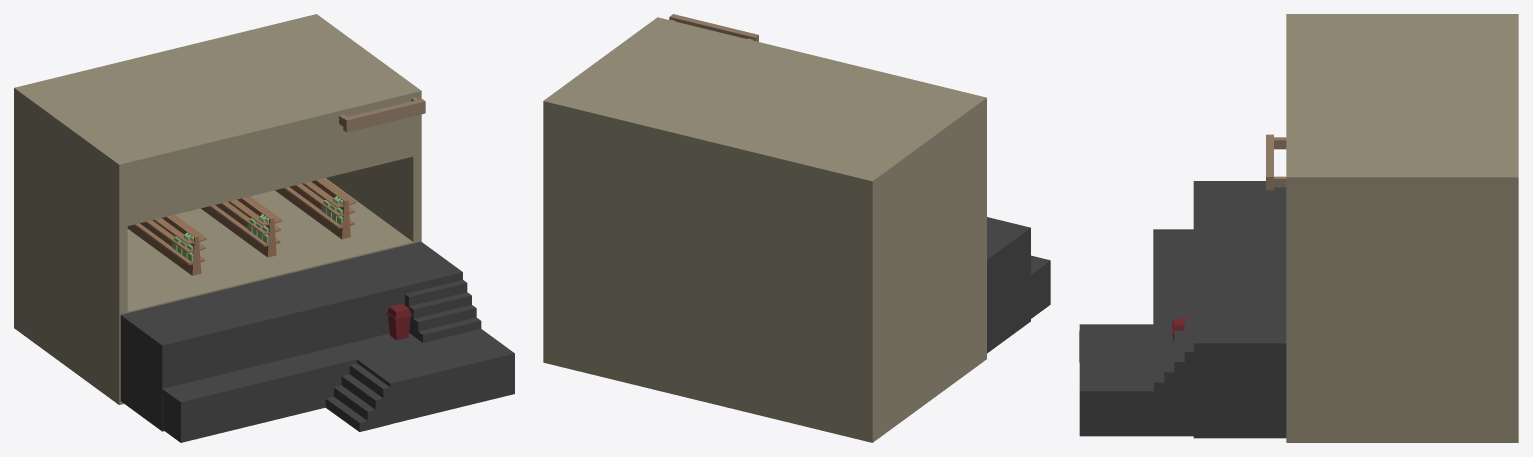
File: supermarketTESTER.fbx
The picture shows the model from 3 angles, left to right: view 1: azimuth 30°, elevation 25°; view 2: azimuth 150°, elevation 25°; view 3: azimuth 270°, elevation 25°; orthographic projection. The views are drawn at different scales.
Visible parts, largest first — view 1: CreamBuildingWHOLE, UpperPlatform, LowerPlatform, UpperStairs, LowerStairs, CreamBuildingShelvesMIDDLE, CreamBuildingShelvesRIGHT, CreamBuildingShelvesLEFT, CreamBuildingSign, LowerPlatformRedBin; view 2: CreamBuildingWHOLE, UpperPlatform, LowerPlatform, CreamBuildingSign; view 3: CreamBuildingWHOLE, UpperPlatform, LowerPlatform, UpperStairs, CreamBuildingSign.
Boxes of the visible parts, x1,y1,x2,y2 form: CreamBuildingWHOLE: (14,14,421,404); UpperPlatform: (120,241,462,431); LowerPlatform: (162,329,514,442); UpperStairs: (405,280,481,342); LowerStairs: (325,363,390,431); CreamBuildingShelvesMIDDLE: (201,196,282,257); CreamBuildingShelvesRIGHT: (275,178,356,239); CreamBuildingShelvesLEFT: (127,215,206,275); CreamBuildingSign: (339,97,425,132); LowerPlatformRedBin: (386,303,412,340); CreamBuildingWHOLE: (543,17,986,442); UpperPlatform: (987,217,1030,353); LowerPlatform: (1031,255,1050,318); CreamBuildingSign: (669,14,758,41); CreamBuildingWHOLE: (1286,14,1518,442); UpperPlatform: (1193,181,1286,438); LowerPlatform: (1079,229,1193,436); UpperStairs: (1154,320,1193,391); CreamBuildingSign: (1266,134,1286,190).
Bounding box in the file's own units: 41.75 × 31.69 × 47.48.
